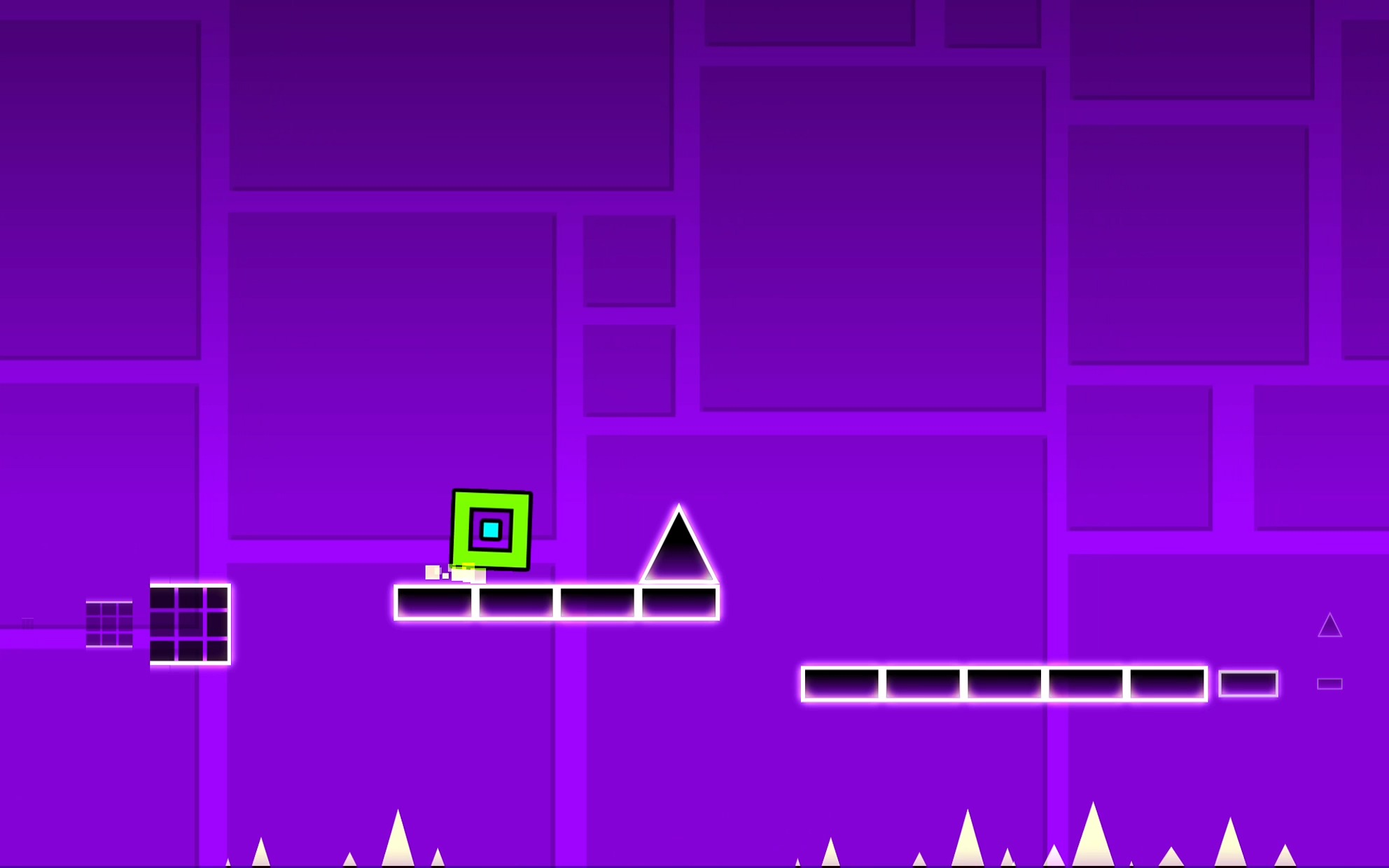Block2: (149, 581, 230, 661)
Block3: (800, 667, 891, 701), (396, 585, 477, 619), (1131, 667, 1206, 699), (643, 586, 717, 617), (480, 586, 552, 617), (1049, 667, 1121, 698), (561, 587, 634, 616), (968, 669, 1040, 698), (1214, 668, 1281, 699), (887, 669, 958, 698)
Player: (453, 489, 533, 566)
Spike: (644, 504, 721, 581)
